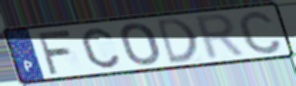C: (236, 9, 285, 56), (79, 26, 122, 70)
D: (155, 16, 201, 66)
F: (34, 28, 74, 76)
O: (118, 21, 162, 67)
R: (193, 11, 248, 62)
